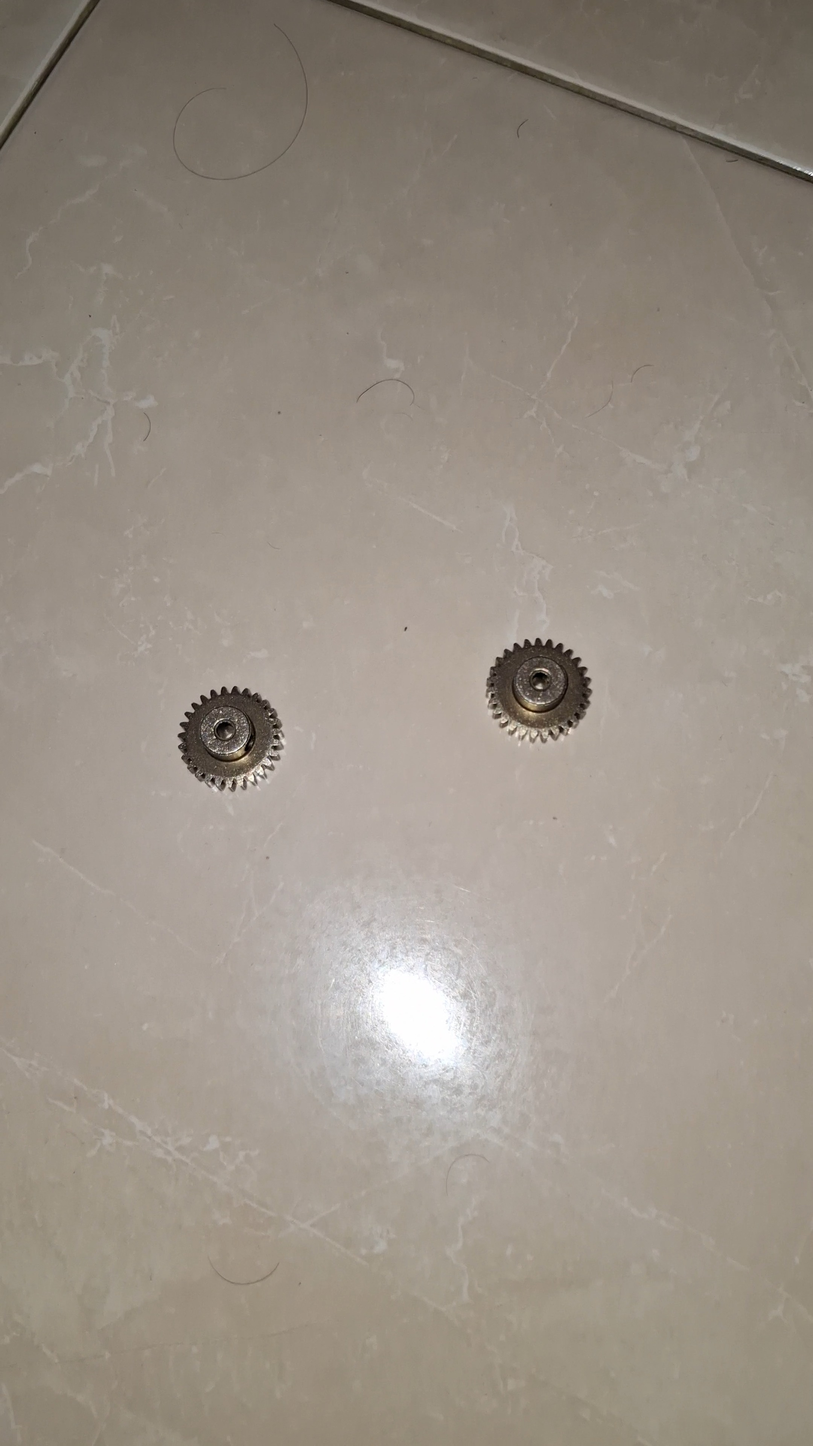spur gear: (178, 688, 281, 791), (484, 641, 587, 742)
